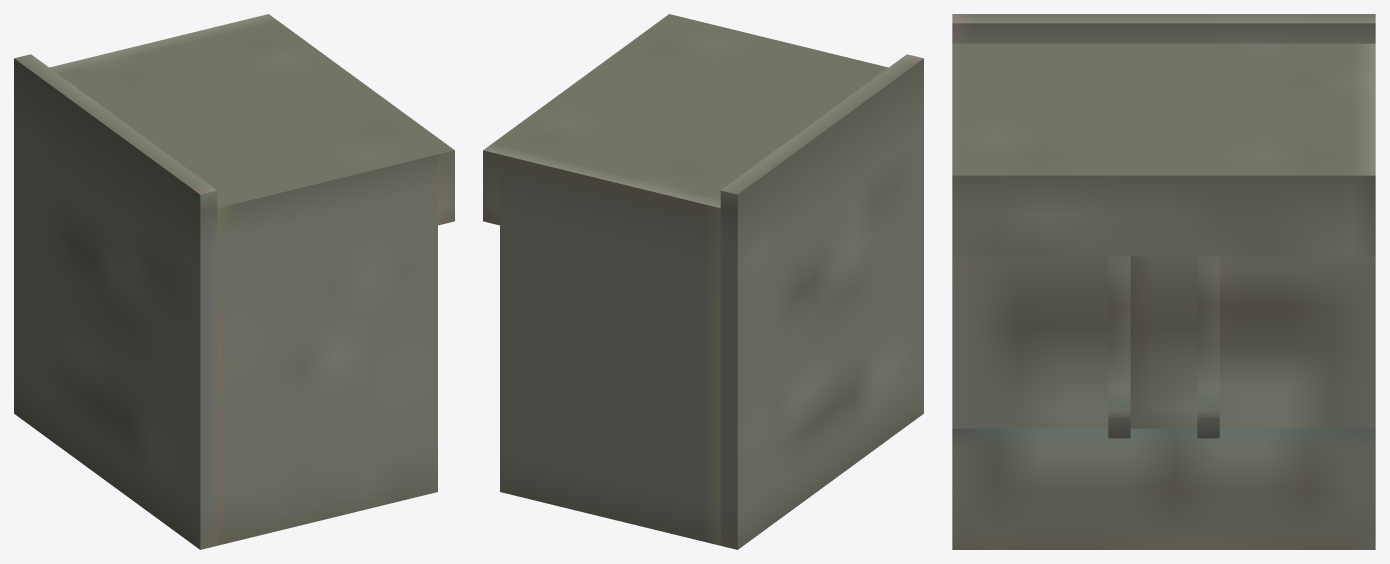
File: CabinetDarkGrey_00.obj
3 views of the same model, side by side, from view 1: azimuth 30°, elevation 25°; view 2: azimuth 150°, elevation 25°; view 3: azimuth 270°, elevation 25° (orthographic). The views are drawn at different scales.
Visible parts, largest first — view 1: CabinetDarkGrey_00; view 2: CabinetDarkGrey_00; view 3: CabinetDarkGrey_00.
Boxes of the visible parts, <box> form: CabinetDarkGrey_00: <box>14,14,454,549</box>; CabinetDarkGrey_00: <box>483,14,923,549</box>; CabinetDarkGrey_00: <box>952,14,1375,549</box>.
Size of the model in its own units: 0.75 by 1 by 0.95.
